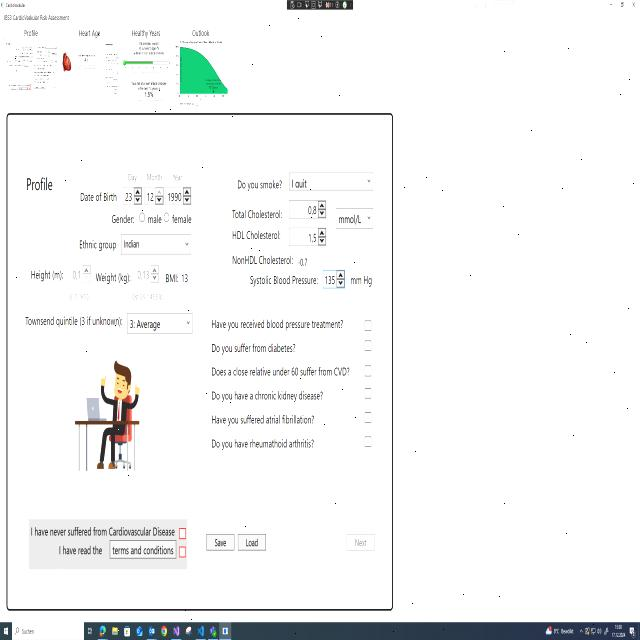button: (107, 539, 177, 566), (237, 528, 273, 556), (343, 529, 377, 554), (205, 529, 235, 557), (627, 0, 640, 11), (615, 0, 627, 11), (604, 0, 614, 11)
checkbox: (362, 408, 374, 427), (362, 316, 374, 334), (363, 362, 373, 382), (363, 384, 374, 402), (179, 524, 190, 542), (363, 434, 373, 451), (364, 338, 374, 354), (178, 544, 188, 560)
dropdownMenu: (288, 166, 376, 194), (125, 308, 196, 335), (118, 232, 193, 257), (334, 202, 376, 233)
input: (11, 621, 83, 640)
label: (208, 314, 347, 335), (207, 364, 355, 383), (29, 519, 178, 537), (205, 408, 322, 428), (207, 436, 324, 454), (21, 312, 124, 331), (208, 387, 330, 403), (207, 341, 303, 359), (228, 248, 310, 268), (245, 272, 320, 290), (228, 224, 286, 246), (225, 201, 284, 222), (2, 8, 71, 22), (56, 542, 106, 561), (229, 174, 283, 191), (27, 261, 64, 283), (24, 171, 57, 195), (74, 187, 118, 204), (94, 268, 132, 287), (162, 266, 194, 288), (125, 290, 169, 306), (65, 288, 96, 308), (349, 268, 378, 289), (128, 23, 166, 39), (74, 239, 116, 253), (107, 212, 136, 229), (172, 212, 201, 229), (77, 25, 107, 39), (188, 22, 212, 37), (145, 164, 164, 182), (170, 166, 186, 182), (146, 212, 163, 227), (20, 26, 40, 37), (123, 170, 137, 183)
radio: (137, 210, 146, 225), (163, 210, 170, 226)
upDown: (288, 197, 328, 221), (288, 224, 329, 247), (134, 262, 160, 287), (165, 185, 193, 207), (67, 261, 92, 285), (322, 266, 346, 290), (121, 185, 142, 208), (143, 184, 164, 207)
